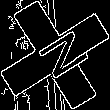N_SW: (23, 25, 87, 85)
